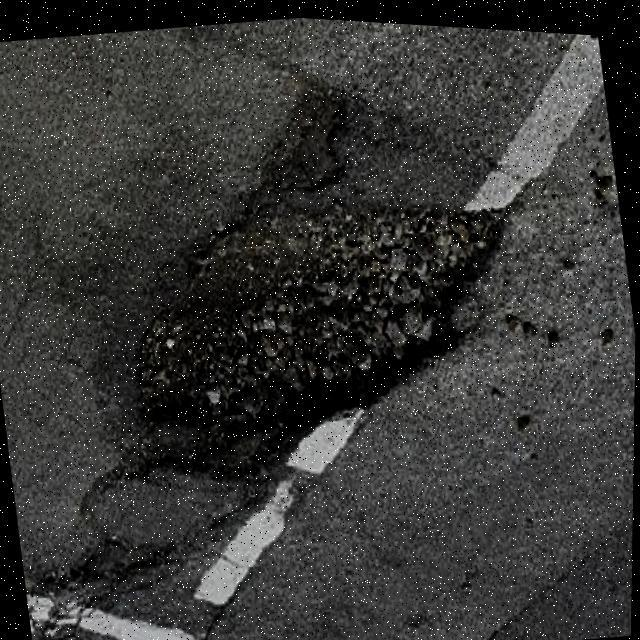pothole: (100, 155, 538, 520)
